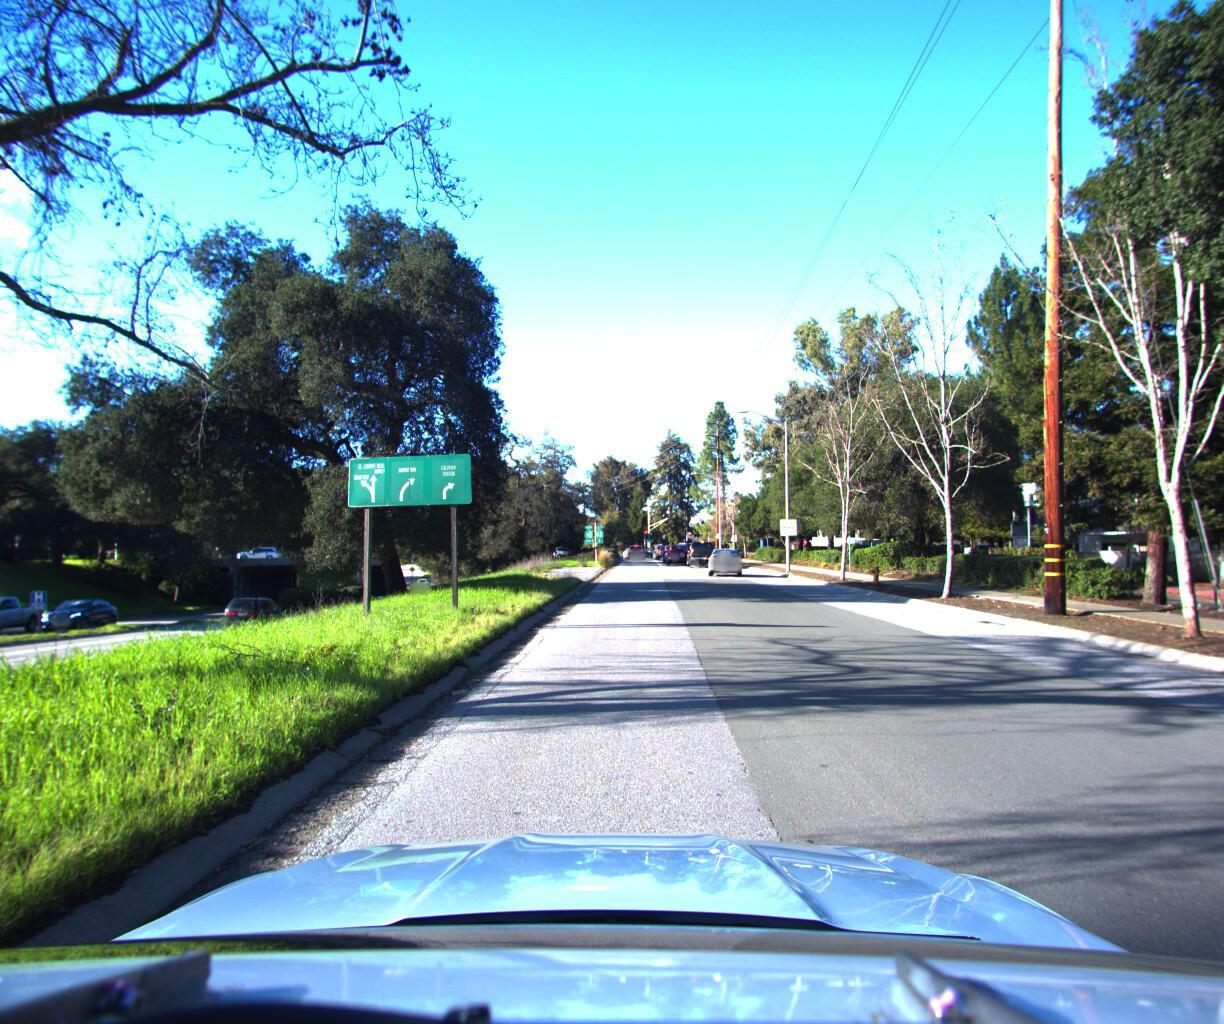car: (38, 592, 126, 631), (223, 591, 288, 633), (0, 592, 47, 639), (705, 543, 743, 573), (683, 534, 721, 562), (664, 538, 690, 560)
